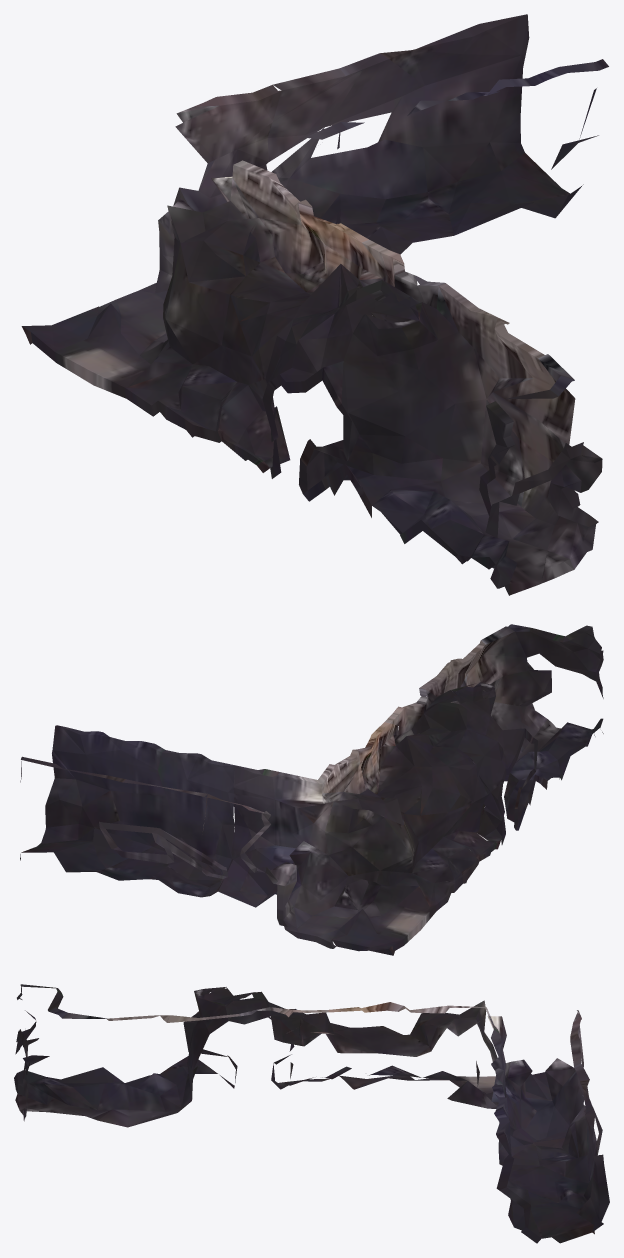
The picture shows the model from 3 angles, top to bottom: view 1: azimuth 30°, elevation 25°; view 2: azimuth 150°, elevation 25°; view 3: azimuth 270°, elevation 25°; orthographic projection. The views are drawn at different scales.
Visible parts, largest first — view 1: Mesh_0; view 2: Mesh_0; view 3: Mesh_0.
Boxes of the visible parts, x1,y1,x2,y2 form: Mesh_0: (21, 14, 608, 595); Mesh_0: (20, 624, 603, 955); Mesh_0: (14, 984, 609, 1243).
Bounding box in the file's own units: 30.37 × 10.11 × 41.37.
1 material, 1 textured.
